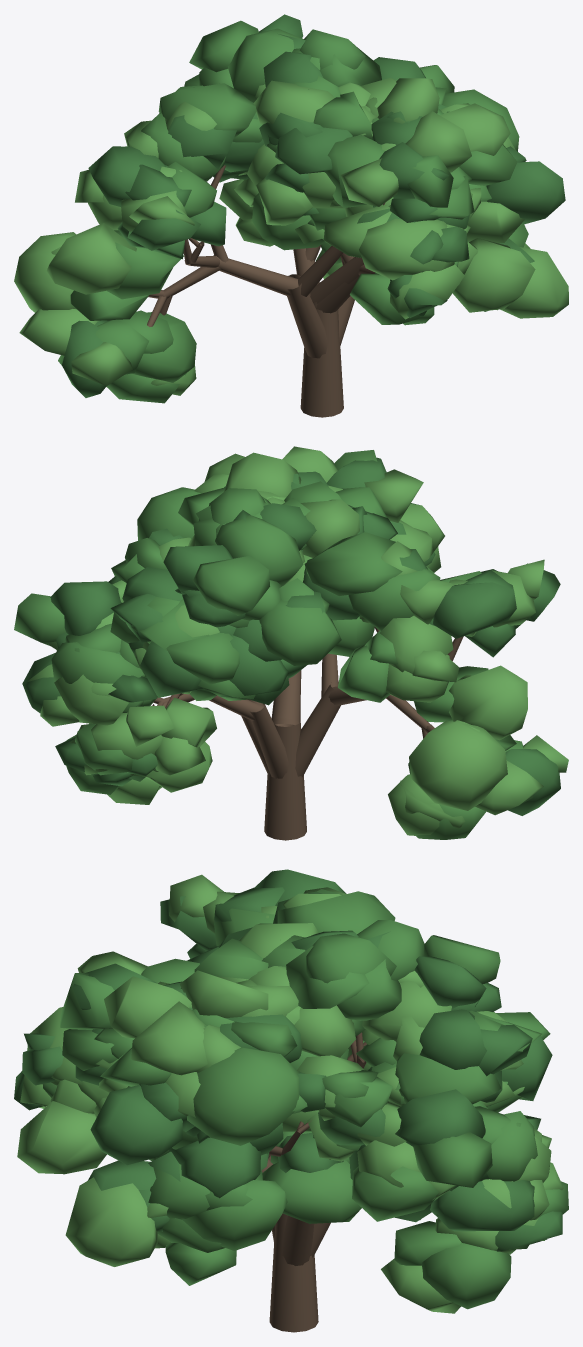
File: tree_broad.glb
3 renders of one model, top to bottom at view 1: azimuth 30°, elevation 25°; view 2: azimuth 150°, elevation 25°; view 3: azimuth 270°, elevation 25°, orthographic. The views are drawn at different scales.
Parts seen in each view (by area): view 1: tree_broad_Canopy1, tree_broad_Canopy0, tree_broad_Canopy2, tree_broad_Branches; view 2: tree_broad_Canopy1, tree_broad_Canopy0, tree_broad_Canopy2, tree_broad_Branches; view 3: tree_broad_Canopy0, tree_broad_Canopy1, tree_broad_Canopy2, tree_broad_Branches.
Boxes of the visible parts, <box> form: tree_broad_Canopy1: <box>14,78,568,395</box>; tree_broad_Canopy0: <box>58,20,528,403</box>; tree_broad_Canopy2: <box>62,14,565,397</box>; tree_broad_Branches: <box>147,165,385,417</box>; tree_broad_Canopy1: <box>27,446,568,835</box>; tree_broad_Canopy0: <box>14,450,533,839</box>; tree_broad_Canopy2: <box>22,457,560,815</box>; tree_broad_Branches: <box>152,626,463,840</box>; tree_broad_Canopy0: <box>43,889,568,1309</box>; tree_broad_Canopy1: <box>17,874,563,1313</box>; tree_broad_Canopy2: <box>14,869,562,1251</box>; tree_broad_Branches: <box>261,1032,366,1332</box>.
Size of the model in its own units: 3.8 by 2.66 by 3.38.
